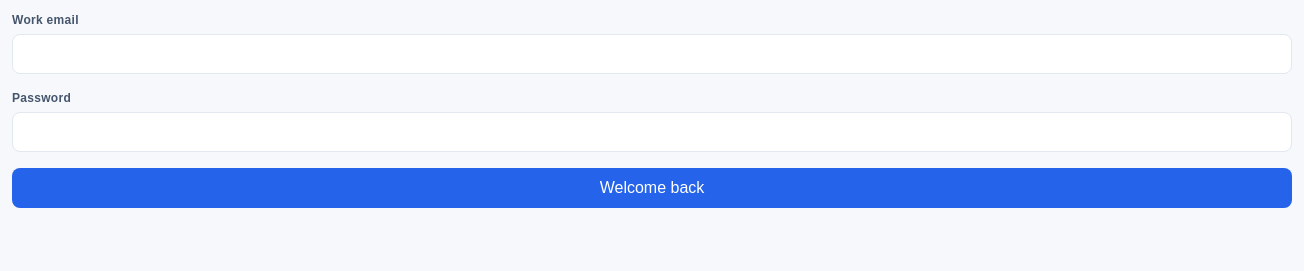
it: authentication form › shows an Auth error instead of creating a local session
Type "finance@example.com" into the field labelled "Work email" at (652, 54), box [12,34,1292,74]
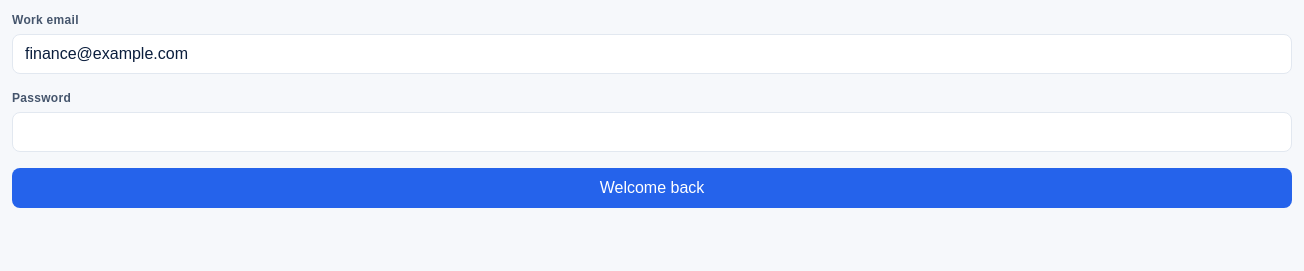
Type "safe-password" into the password field labelled "Password" at (652, 132), box [12,112,1292,152]
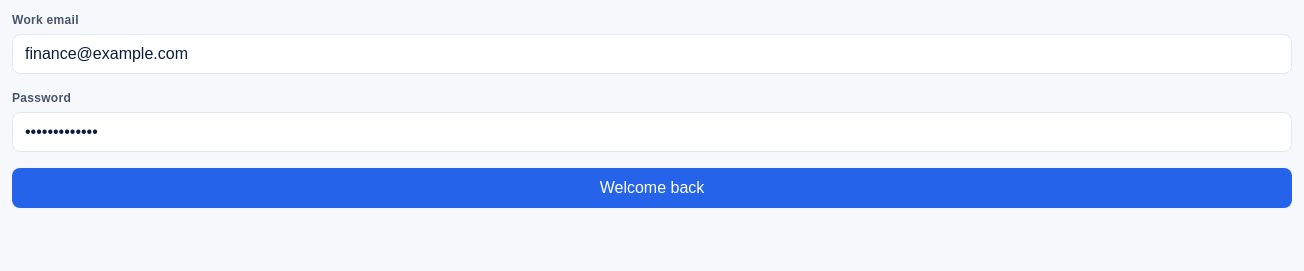
Click the button "Welcome back" at (652, 188), box [12,168,1292,208]
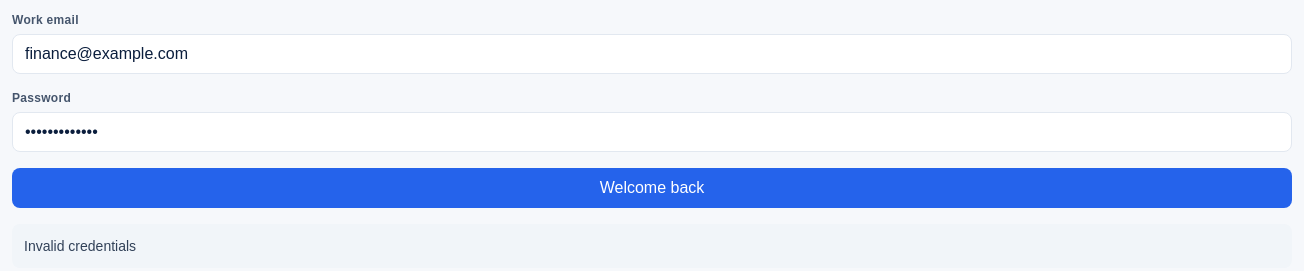
Expected: the message reads "Invalid credentials", [24,238,136,254]
